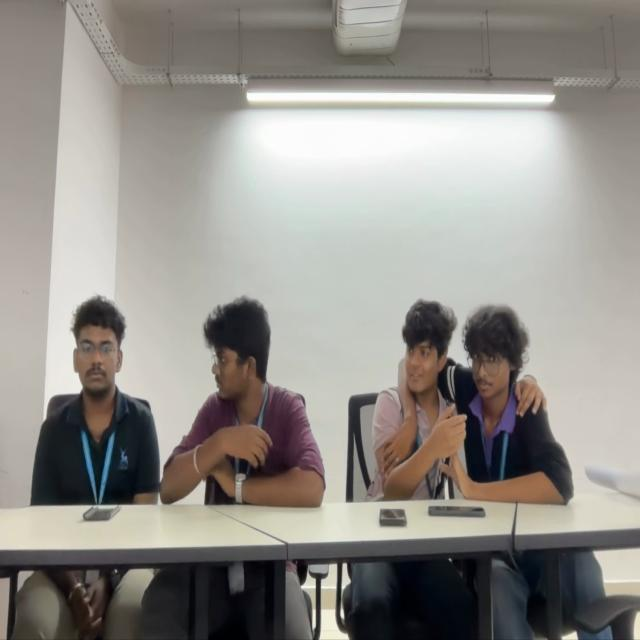Isolated: (164, 296, 326, 502), (26, 294, 158, 506)
socializing: (368, 297, 572, 507)
